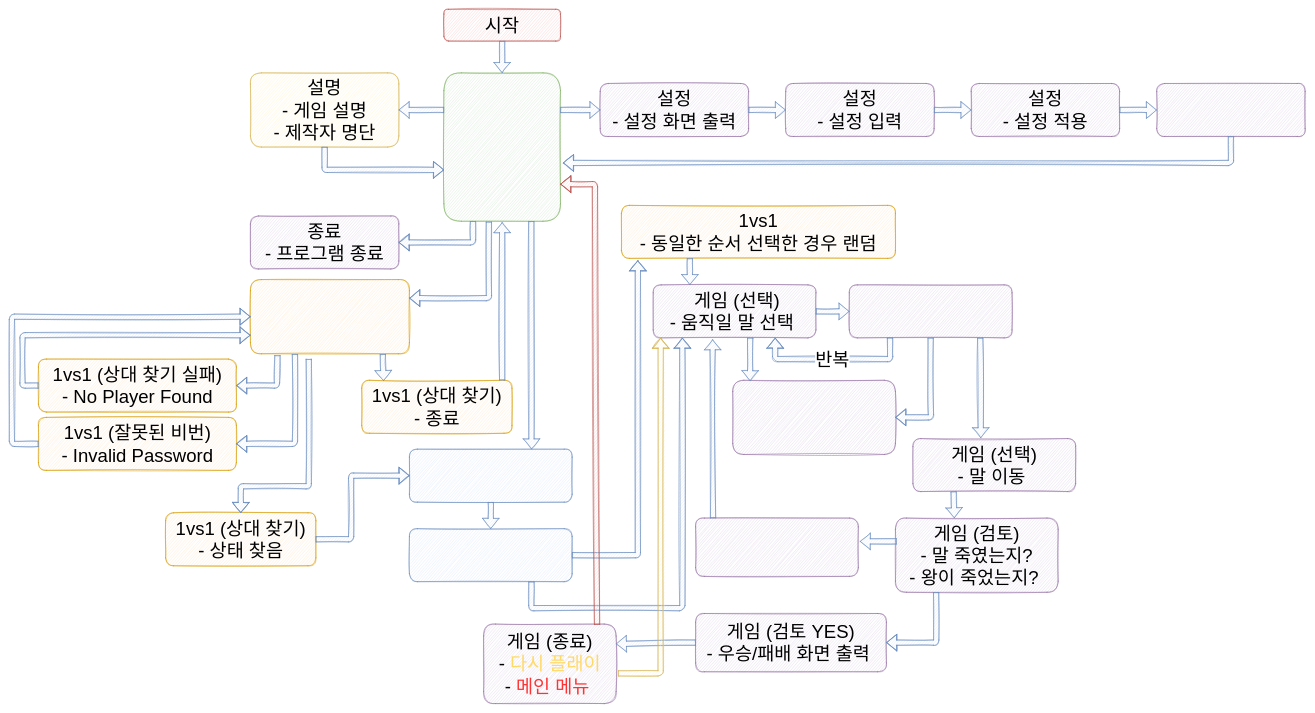
Some shapes in this 1315 by 713 pixel diagram are drawn without their labels. Here are the shapes that lost their labels. From the top down, the centre of each, then its label:
At (1230,109): "설정 - 설정 적용 완료".
At (501,146): "메뉴 - 1vs컴 - 1vs1 - 설정 - 설명 - 종료".
At (329,316): "1vs1 (상대 찾기) - IP:PORT - PASSWORD".
At (930,311): "게임 (선택) - 말 경로 표시".
At (813,417): "게임 (항복) - 다시 플래이 - 메뉴".
At (490,475): "1vs컴 or 1vs1 - 게임 화면 출력".
At (490,555): "1vs컴 or 1vs1 - 순서 선택".
At (776,547): "게임 (검토 NO) - 순서 변경".
